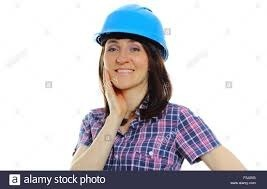helmet: (95, 6, 169, 62)
person with partial safety: (71, 5, 219, 171)
